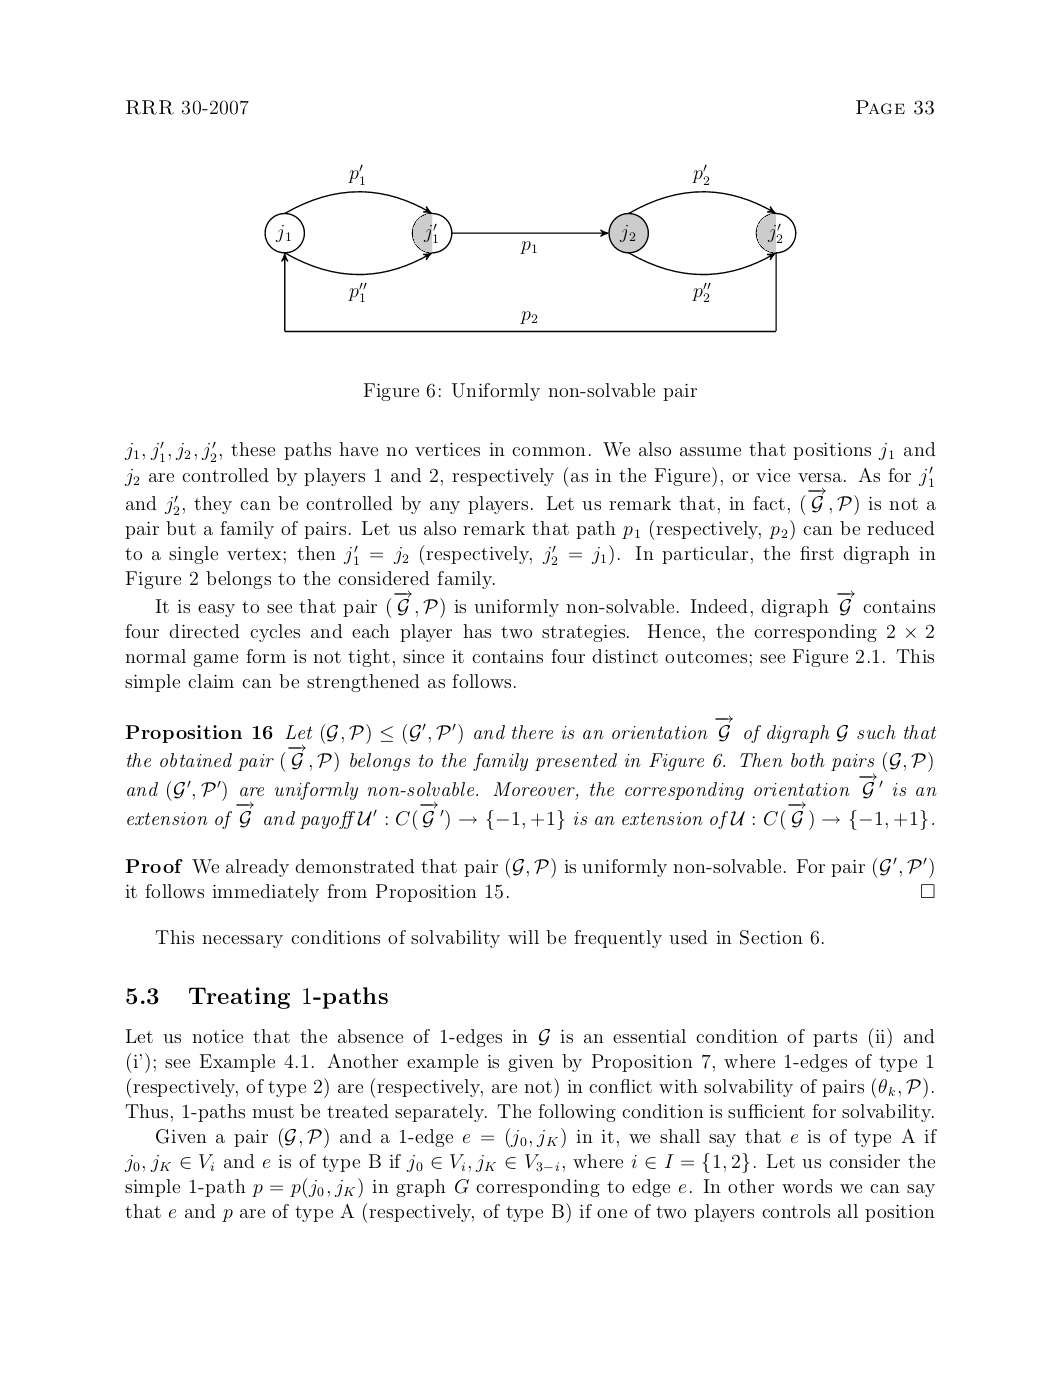figure: (264, 164, 796, 332)
